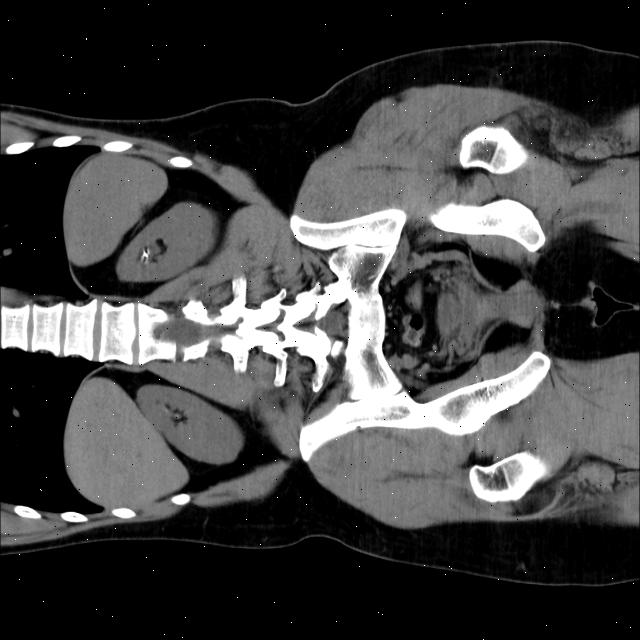kidneystone: (140, 245, 149, 263)
